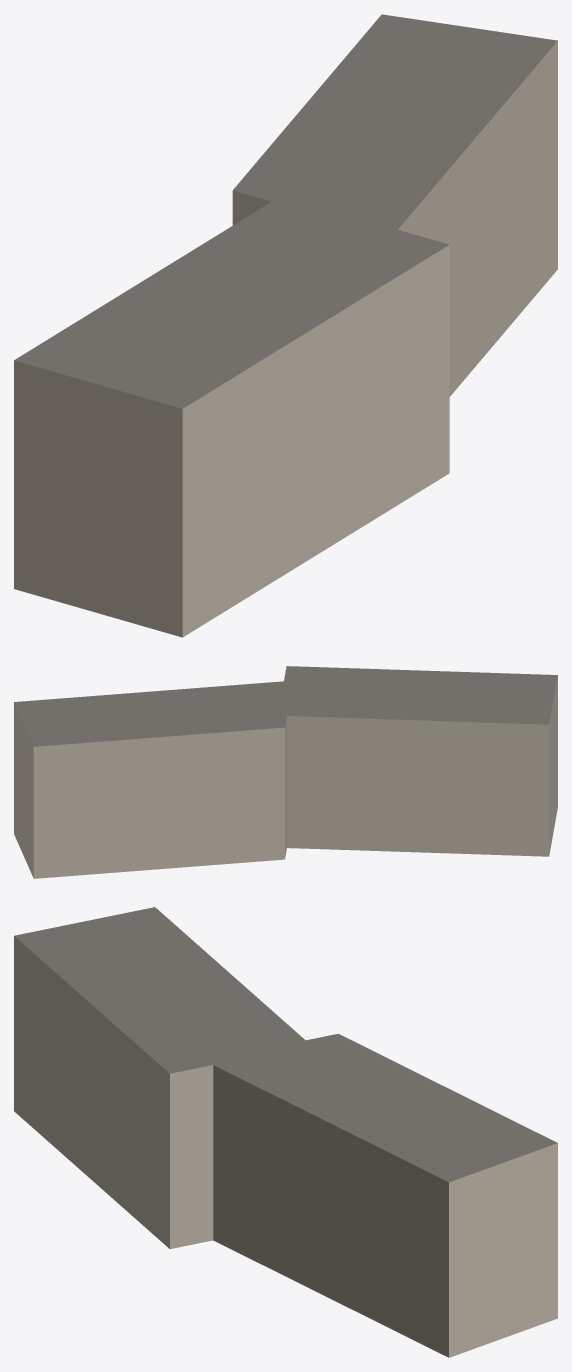
3 views of the same model, one above another, from view 1: azimuth 30°, elevation 25°; view 2: azimuth 150°, elevation 25°; view 3: azimuth 270°, elevation 25° (orthographic). The views are drawn at different scales.
Visible parts, largest first — view 1: HP-w1323529654; view 2: HP-w1323529654; view 3: HP-w1323529654.
Boxes of the visible parts, <box> form: HP-w1323529654: <box>14,14,557,637</box>; HP-w1323529654: <box>14,666,557,878</box>; HP-w1323529654: <box>14,907,557,1357</box>.
Size of the model in its own units: 60.58 by 18 by 50.57.
